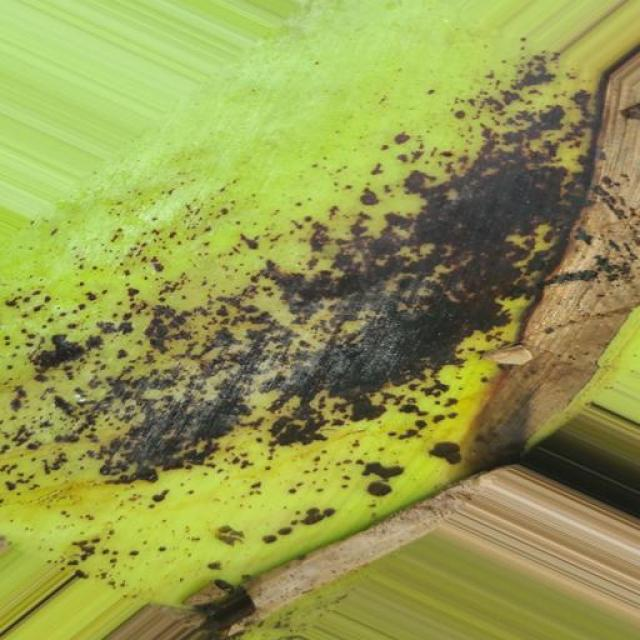Anthracnose: (1, 39, 640, 640)
